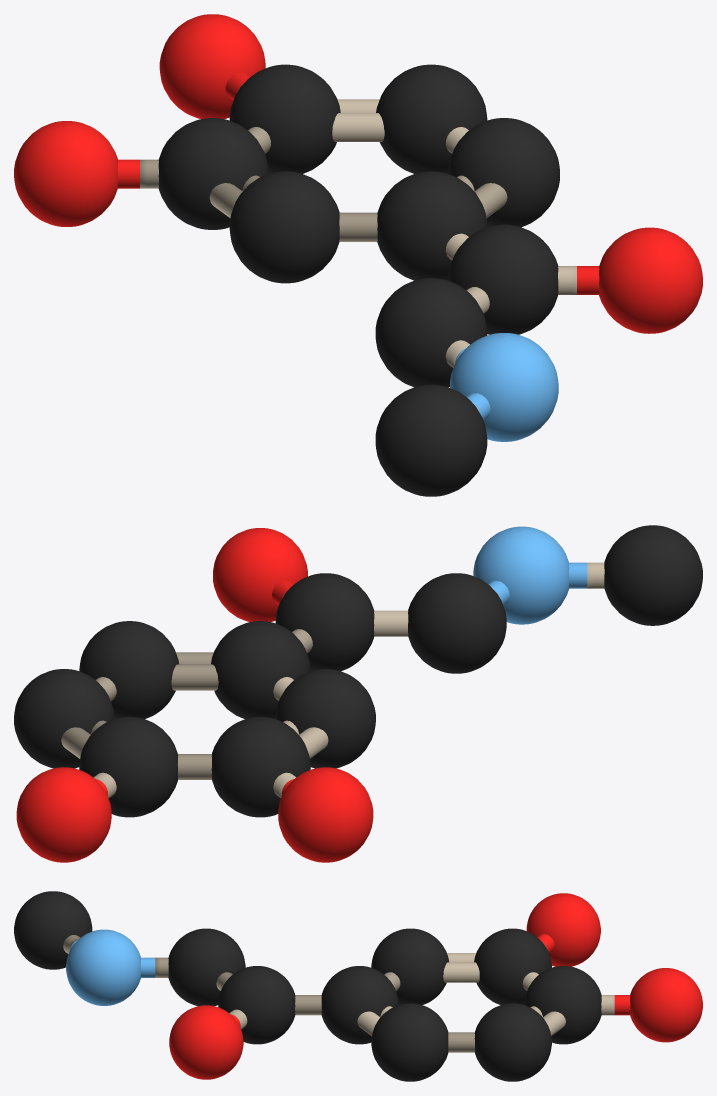
The model's file is Epinephrine.fbx.
3 renders of one model, top to bottom at view 1: azimuth 30°, elevation 25°; view 2: azimuth 150°, elevation 25°; view 3: azimuth 270°, elevation 25°, orthographic. The views are drawn at different scales.
Parts seen in each view (by area): view 1: Epinephrine; view 2: Epinephrine; view 3: Epinephrine.
Part boxes in pixels (x1,y1,x2,y2): Epinephrine: (14, 14, 702, 496); Epinephrine: (14, 525, 702, 862); Epinephrine: (14, 891, 702, 1081).
Size of the model in its own units: 337 by 77 by 675.
